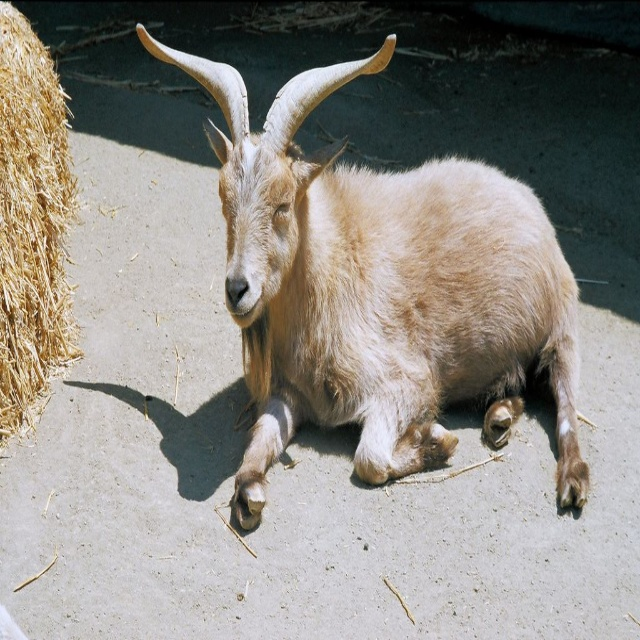Goat: (136, 23, 590, 529)
